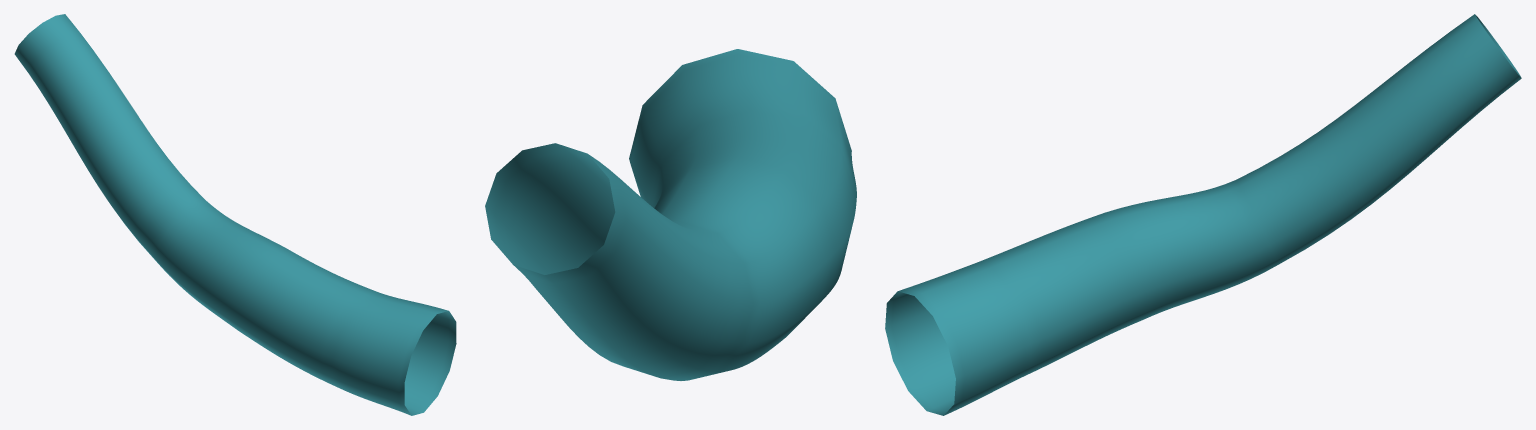
3 renders of one model, left to right at view 1: azimuth 30°, elevation 25°; view 2: azimuth 150°, elevation 25°; view 3: azimuth 270°, elevation 25°, orthographic. The views are drawn at different scales.
Visible parts, largest first — view 1: 右肺下叶支气管; view 2: 右肺下叶支气管; view 3: 右肺下叶支气管.
Part boxes in pixels (bbox=[...]): 右肺下叶支气管: bbox=[14, 14, 456, 415]; 右肺下叶支气管: bbox=[485, 49, 856, 380]; 右肺下叶支气管: bbox=[885, 14, 1521, 415].
Size of the model in its own units: 0.046 by 0.0534 by 0.0987.
